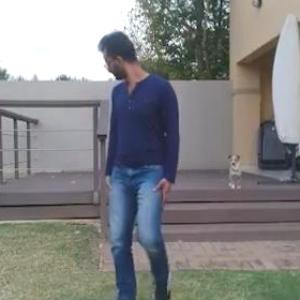follow: (76, 14, 182, 281)
